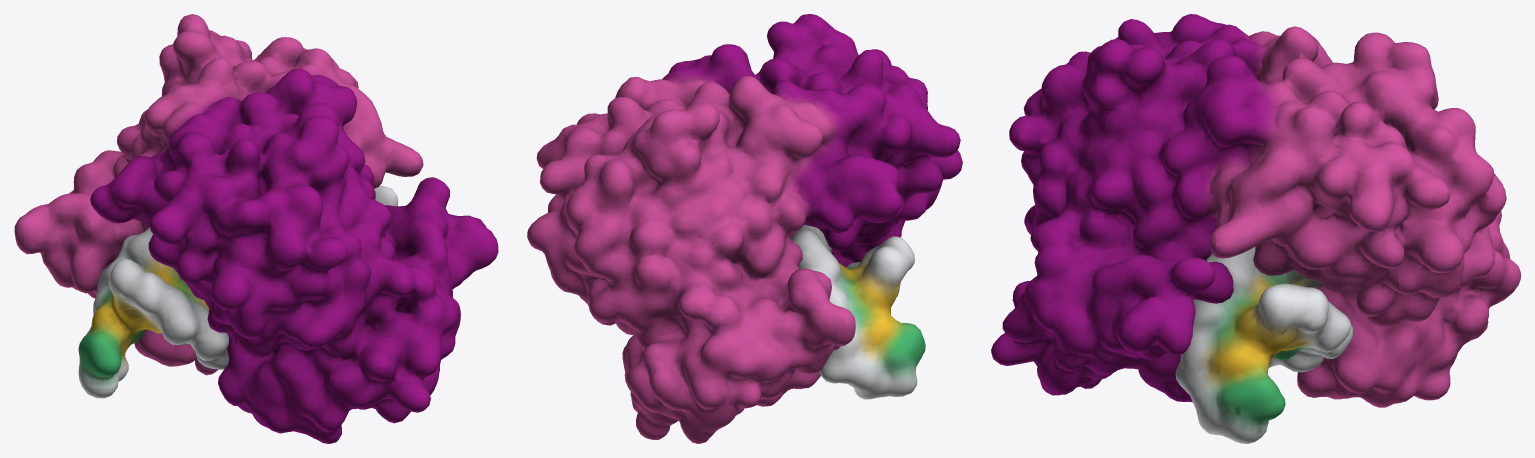
Rendered from 1DFM.glb.
3 renders of one model, left to right at view 1: azimuth 30°, elevation 25°; view 2: azimuth 150°, elevation 25°; view 3: azimuth 270°, elevation 25°, orthographic. The views are drawn at different scales.
Visible parts, largest first — view 1: 1DFM_protein, 1DFM_dna; view 2: 1DFM_protein, 1DFM_dna; view 3: 1DFM_protein, 1DFM_dna.
Boxes of the visible parts, <box> form: 1DFM_protein: <box>14,14,498,443</box>; 1DFM_dna: <box>78,185,398,398</box>; 1DFM_protein: <box>527,14,962,443</box>; 1DFM_dna: <box>580,224,925,399</box>; 1DFM_protein: <box>991,14,1520,407</box>; 1DFM_dna: <box>1175,247,1353,443</box>.
Size of the model in its own units: 6.37 by 5.49 by 7.29.
